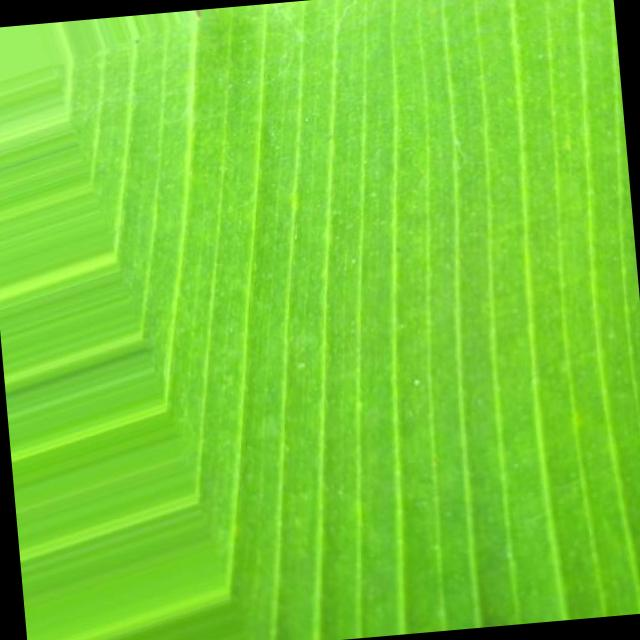Banana_Healthy: (171, 100, 593, 467)
